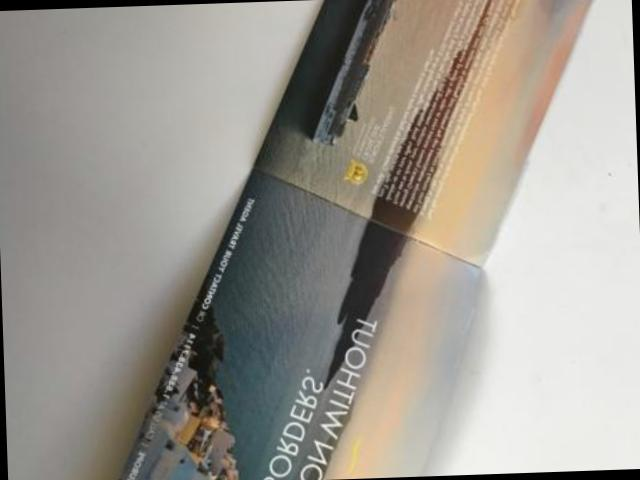cardboard paper: (121, 0, 592, 480)
